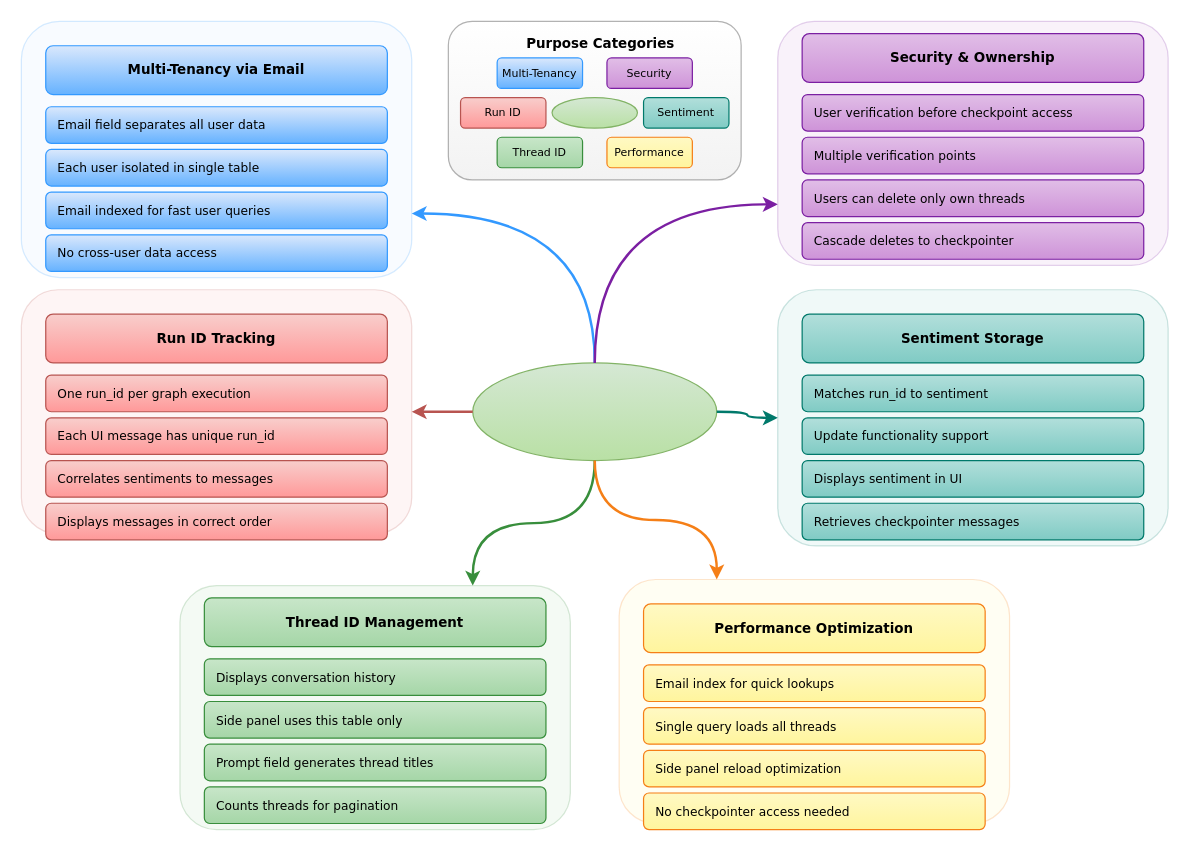
Image size: 1190x852. Some labels were removed from this diagram. Here are the shapes that lost their labels. From the top down, the centre of each, then its label:
At point 594,112: "Table".
At point 594,411: "users_threads_runs".
